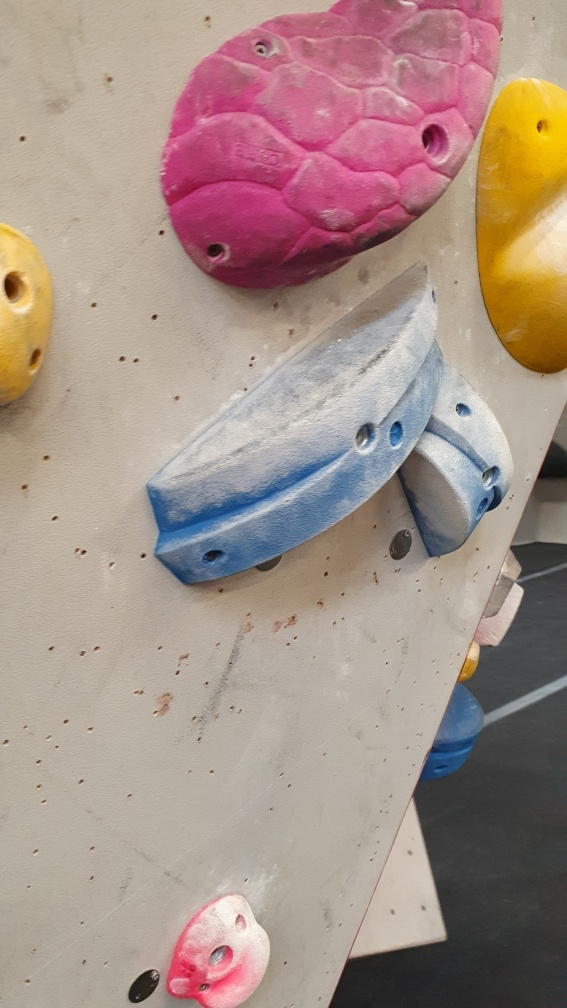Hand Start: (128, 965, 161, 1005), (384, 525, 413, 561)
Jug: (168, 893, 271, 1004)
Pinch: (143, 257, 443, 587), (396, 368, 513, 558), (415, 679, 487, 784)
